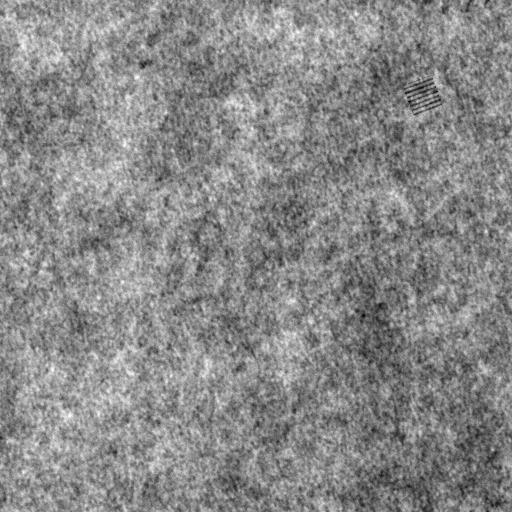DefectTypeB: (402, 76, 443, 114)
